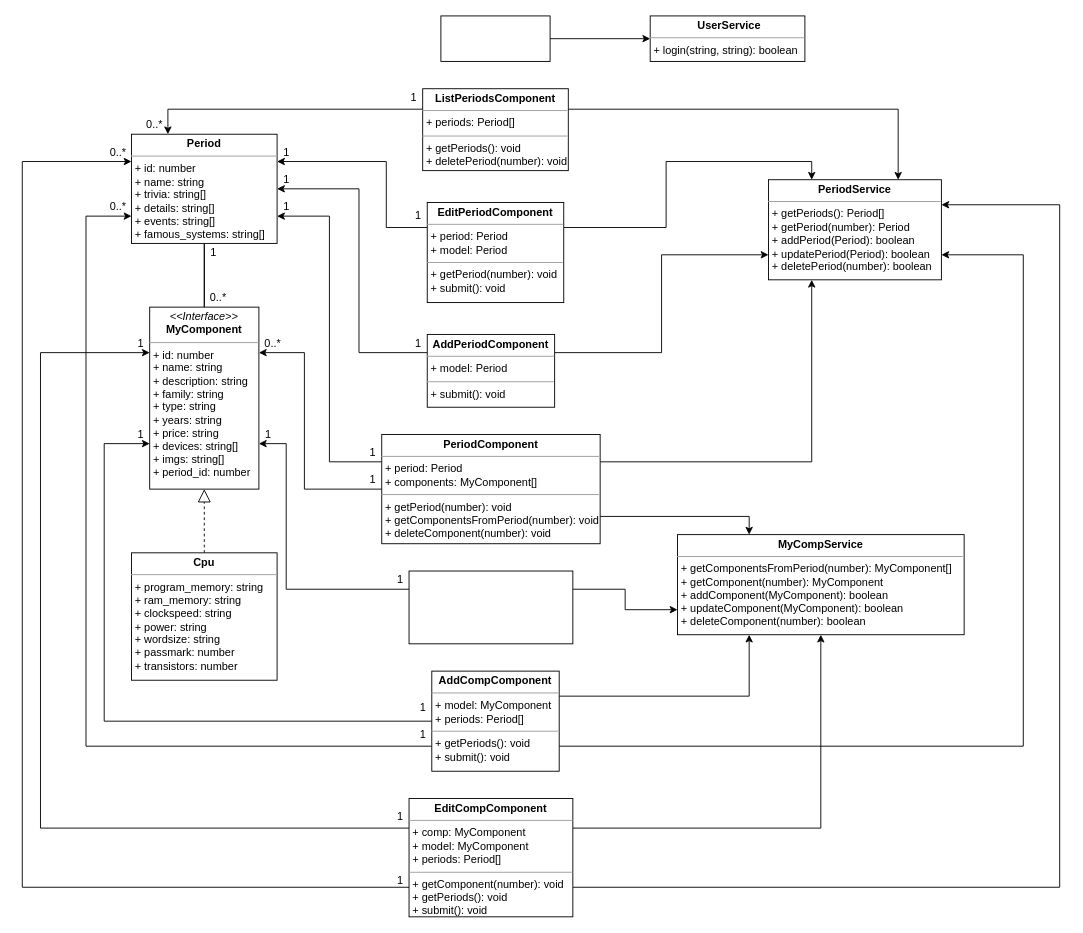
This 1083x933 diagram has some shape labels left out. Each missing label, with the centre of its shape:
"LoginComponent + login(): void" goes at point (495, 38).
"MyCompComponent + component: MyComponent + getComponent(number): void" goes at point (490, 607).
